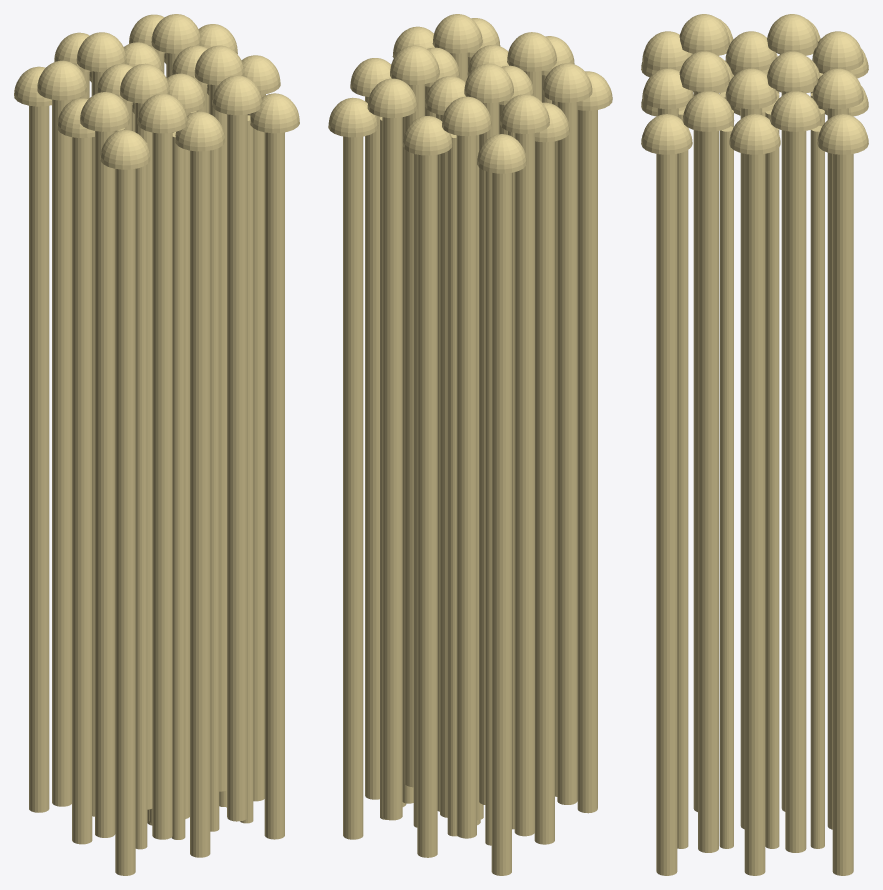
The model's file is Flammulina velutipes1.fbx.
3 renders of one model, left to right at view 1: azimuth 30°, elevation 25°; view 2: azimuth 150°, elevation 25°; view 3: azimuth 270°, elevation 25°, orthographic. The views are drawn at different scales.
Visible parts, largest first — view 1: pCylinder43; view 2: pCylinder43; view 3: pCylinder43.
Boxes of the visible parts, x1,y1,x2,y2 form: pCylinder43: (14, 14, 299, 875); pCylinder43: (328, 14, 612, 875); pCylinder43: (641, 14, 868, 875).
Size of the model in its own units: 1.3 by 5.01 by 1.29.
